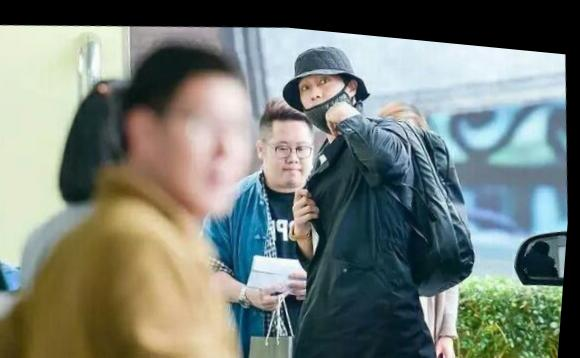NONE: (162, 103, 262, 208), (266, 130, 320, 184)
WRONG: (299, 61, 362, 125)
